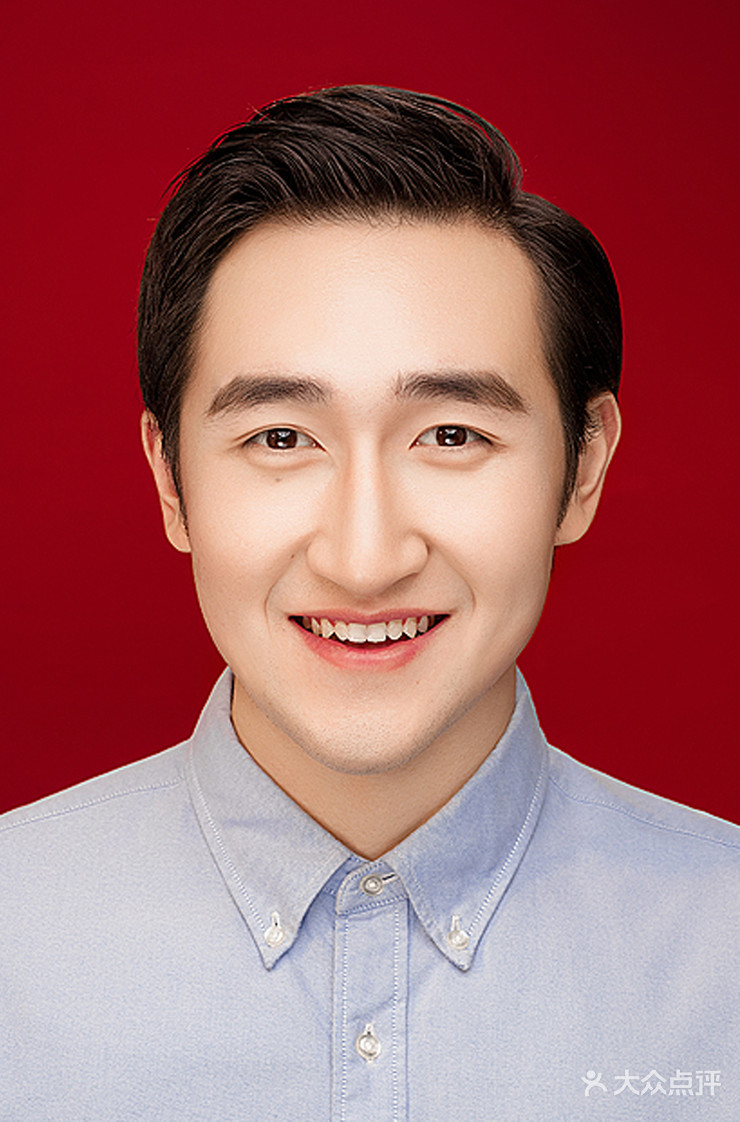unmask: (182, 224, 552, 734)
